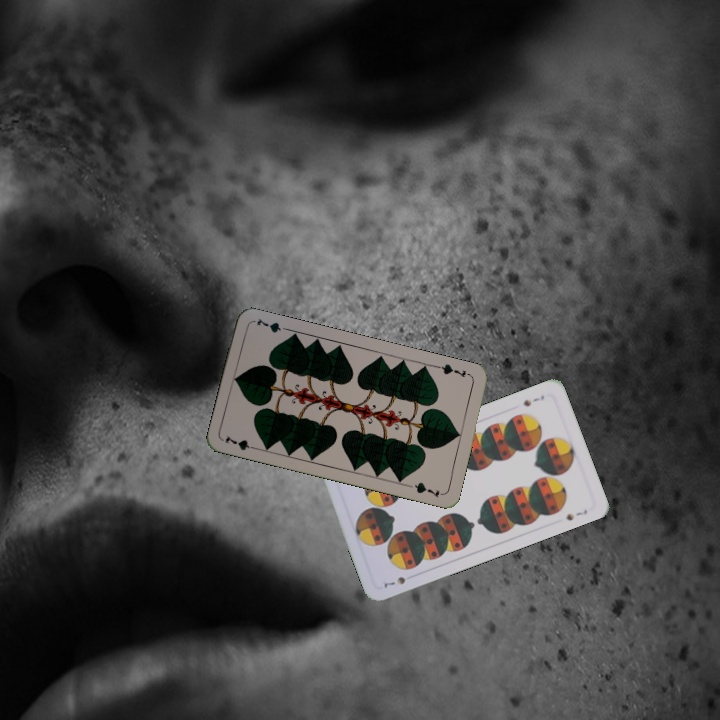G7: (221, 431, 261, 453), (433, 360, 473, 380)
S7: (379, 572, 408, 590), (519, 391, 547, 409)
